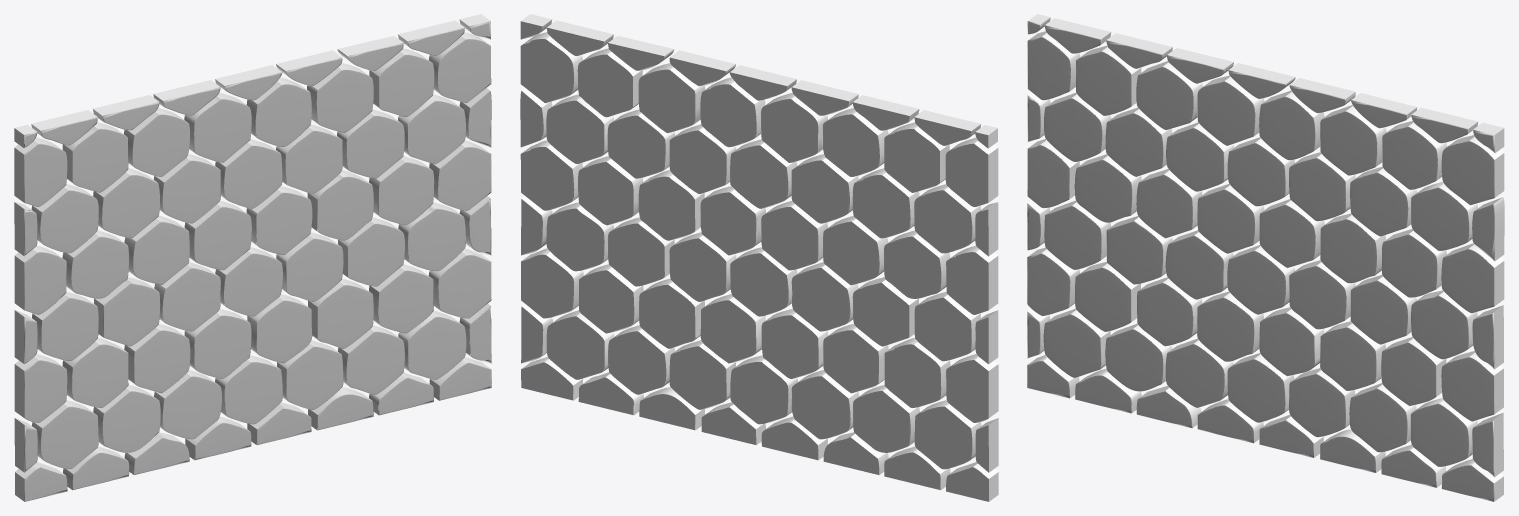
Rendered from 3Dhex.dae.
The picture shows the model from 3 angles, left to right: view 1: azimuth 30°, elevation 25°; view 2: azimuth 150°, elevation 25°; view 3: azimuth 330°, elevation 25°; orthographic projection.
Visible parts, largest first — view 1: Artboard_1; view 2: Artboard_1; view 3: Artboard_1.
Part boxes in pixels (left/top/right/bottom): Artboard_1: left=14, top=14, right=491, bottom=501; Artboard_1: left=520, top=14, right=998, bottom=501; Artboard_1: left=1027, top=14, right=1504, bottom=501.
Size of the model in its own units: 14.23 by 10.67 by 0.5495.
